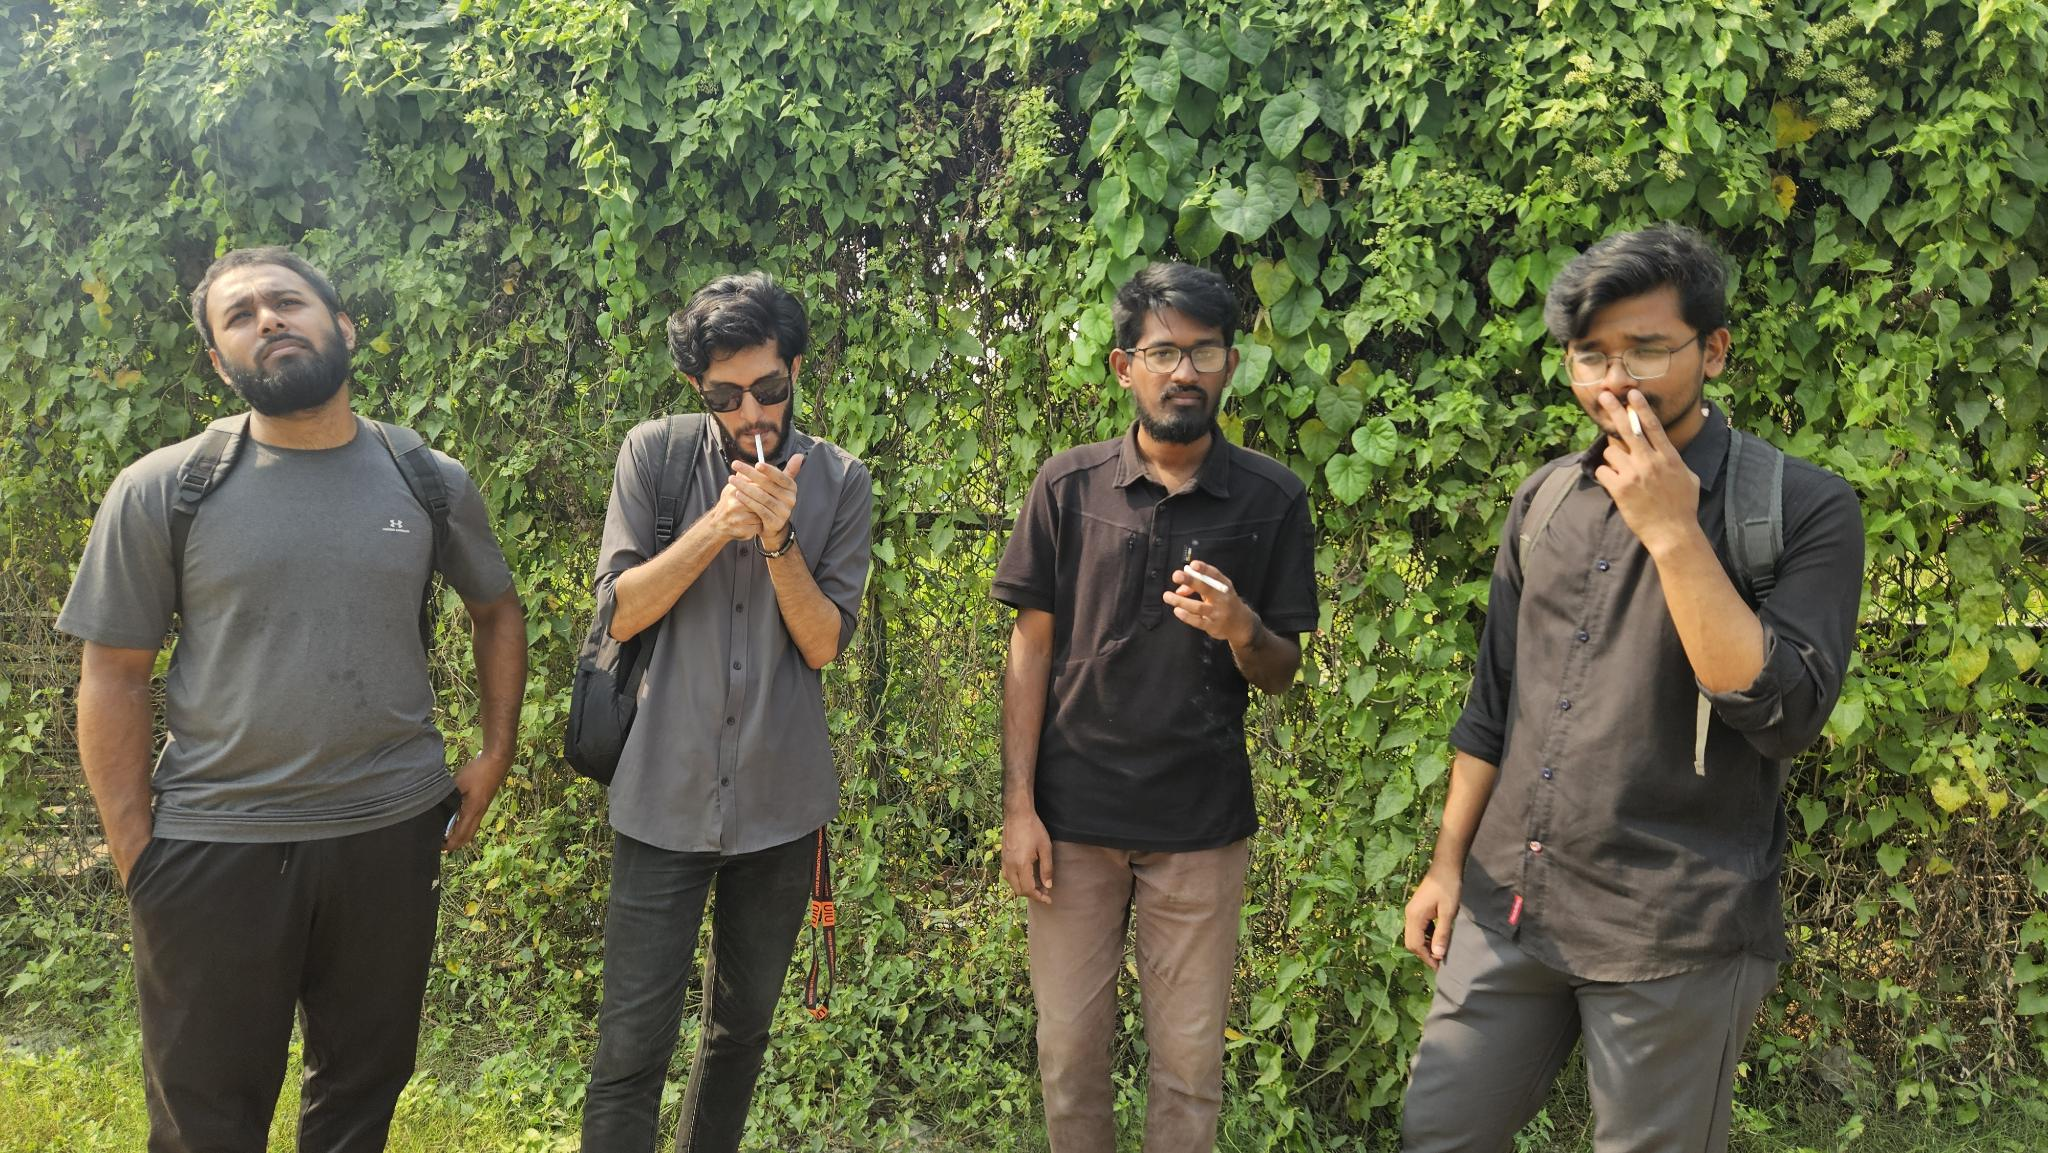cigarette: (1183, 564, 1229, 595), (1626, 404, 1644, 440), (754, 432, 767, 464)
nonSmoker: (52, 247, 529, 1153)
smoker: (1400, 231, 1865, 1153), (989, 263, 1321, 1153), (564, 276, 872, 1153)
